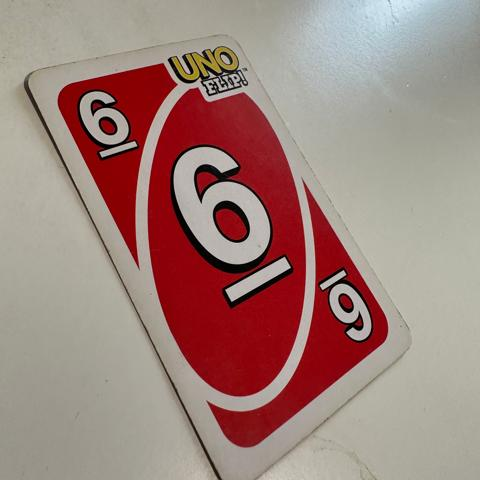lred-6: (71, 75, 153, 165)
